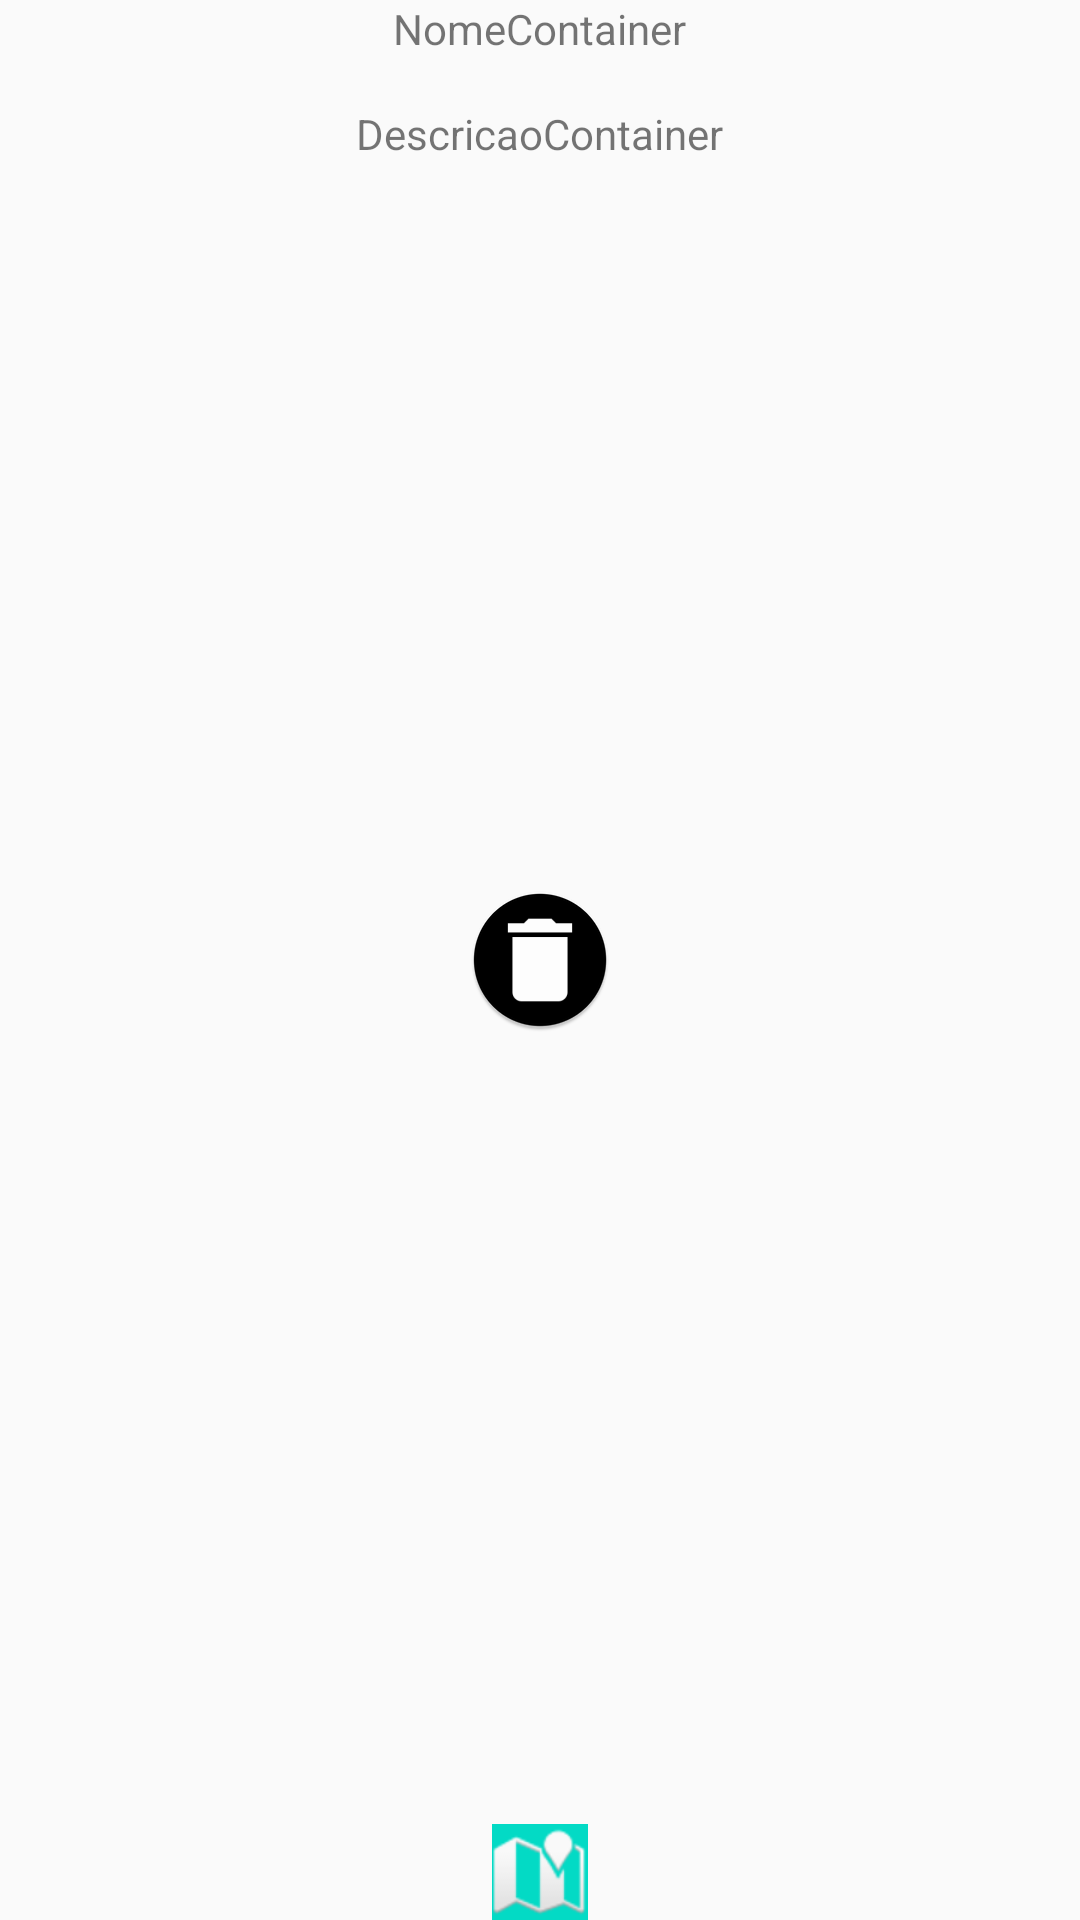

Named icons in this screenshot (1080x1920) and their bounding boxes, [x1=x1, y1=y1, x2=x2, y2=y2]:
map: [x1=492, y1=1824, x2=588, y2=1920]
